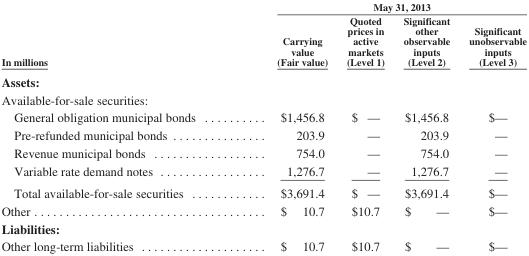table: (0, 0, 526, 253)
table column: (0, 0, 235, 253), (235, 0, 336, 253), (458, 0, 526, 253), (393, 0, 458, 253), (336, 0, 393, 253)
table column header: (0, 0, 526, 70)
table projected row header: (0, 70, 526, 90), (0, 90, 526, 108), (0, 219, 526, 237)
table row: (0, 13, 526, 70), (0, 70, 526, 90), (0, 161, 526, 181), (0, 181, 526, 201), (0, 90, 526, 108), (0, 108, 526, 126), (0, 143, 526, 161), (0, 201, 526, 219), (0, 219, 526, 237), (0, 126, 526, 143), (0, 237, 526, 253), (0, 0, 526, 13)
table spanning cell: (0, 0, 235, 70), (235, 0, 526, 13)
